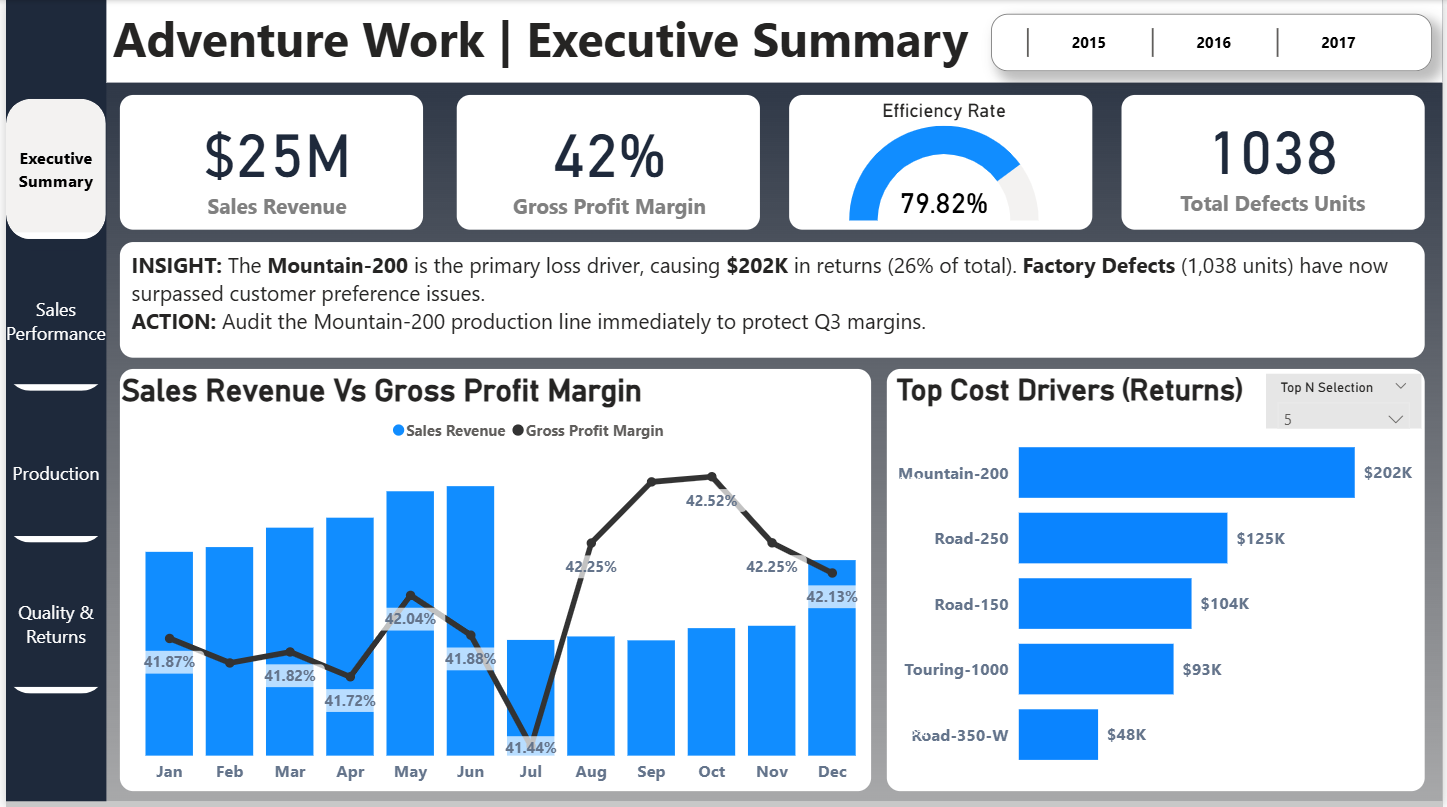

The dashboard page shown, as its layout file describes it:
{"tool":"powerbi","page":{"name":"Executive Summary","canvas":[1280,720],"ordinal":0},"visuals":[{"type":"card","fields":{"Values":["_Measures.Sales Revenue"]},"box":[106.9,84.6,269.4,119.1],"z":0},{"type":"card","fields":{"Values":["_Measures.Gross Profit Margin"]},"box":[404.1,84.6,267.2,119.1],"z":1000},{"type":"gauge","title":"Efficiency Rate","fields":{"Y":["_Measures.Effeciency Rate"]},"box":[700.2,87.9,270.5,113.5],"z":2000},{"type":"card","fields":{"Values":["_Measures.T-Defects Qty"]},"box":[996.3,84.6,263.8,113.5],"z":3000},{"type":"textbox","box":[90.2,0,787,72.4],"z":4000},{"type":"clusteredBarChart","title":"Top Cost Drivers (Returns)","fields":{"Category":["Dim_Products.ModelName"],"Y":["_Measures.T-Returns Value"]},"box":[788.1,331.7,472,375.1],"z":5000},{"type":"slicer","fields":{"Values":["Dim_Date.Year"]},"box":[877.2,12.2,393,51.2],"z":6000},{"type":"slicer","fields":{"Values":["Top N Selection.Top N Selection"]},"box":[1122.1,329.5,138,49],"z":7000},{"type":"lineClusteredColumnComboChart","title":"Sales Revenue Vs Gross Profit Margin","fields":{"Category":["Dim_Date.Year Hierarchy.MonthName"],"Y":["_Measures.Sales Revenue"],"Y2":["_Measures.Gross Profit Margin"]},"box":[98,331.7,738,375.1],"z":8000},{"type":"pageNavigator","box":[0,87.5,89.9,532.1],"z":9000},{"type":"textbox","box":[106.7,218.1,1154.2,103.1],"z":10000}]}

Visuals, with their boxes in screenshot pixels (x1, y1, x2, y2), scaled from the page's 1280x720 canvas onto the 1447x807 screenshot:
card - _Measures.Sales Revenue: <bbox>121, 95, 425, 228</bbox>
card - _Measures.Gross Profit Margin: <bbox>457, 95, 759, 228</bbox>
"Efficiency Rate" gauge: <bbox>792, 99, 1097, 226</bbox>
card - _Measures.T-Defects Qty: <bbox>1126, 95, 1425, 222</bbox>
textbox: <bbox>102, 0, 992, 81</bbox>
"Top Cost Drivers (Returns)" clusteredBarChart: <bbox>891, 372, 1425, 792</bbox>
slicer - Dim_Date.Year: <bbox>992, 14, 1436, 71</bbox>
slicer - Top N Selection.Top N Selection: <bbox>1268, 369, 1425, 424</bbox>
"Sales Revenue Vs Gross Profit Margin" lineClusteredColumnComboChart: <bbox>111, 372, 945, 792</bbox>
pageNavigator: <bbox>0, 98, 102, 694</bbox>
textbox: <bbox>121, 244, 1425, 360</bbox>
